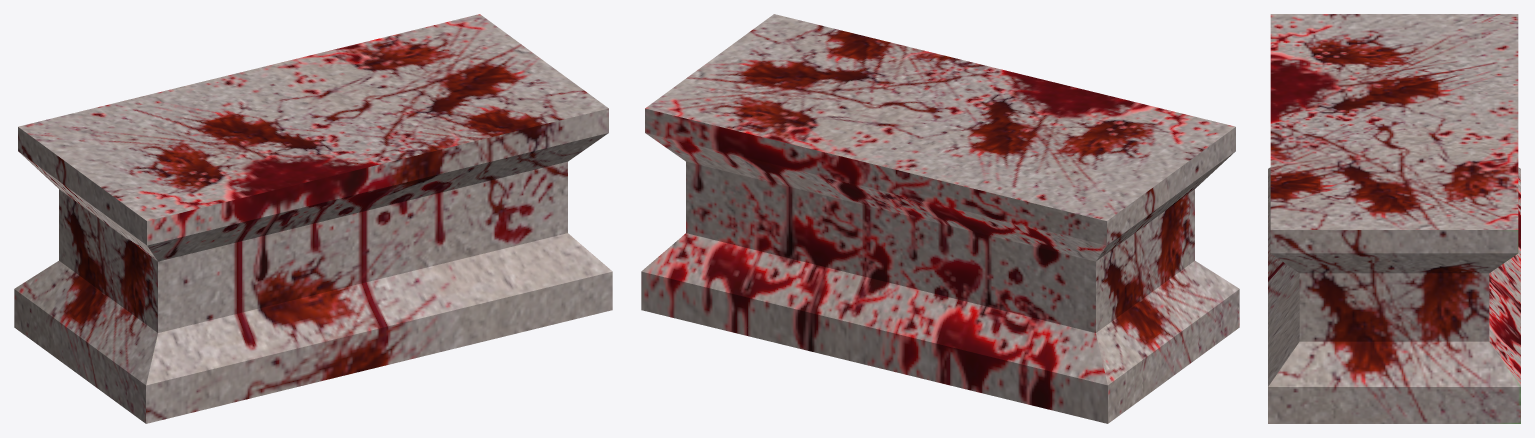
Rendered from altar.FBX.
The picture shows the model from 3 angles, left to right: view 1: azimuth 30°, elevation 25°; view 2: azimuth 150°, elevation 25°; view 3: azimuth 270°, elevation 25°; orthographic projection. The views are drawn at different scales.
Parts seen in each view (by area): view 1: Box001; view 2: Box001; view 3: Box001.
Boxes of the visible parts, left/top/right/bottom form: Box001: left=14, top=14, right=612, bottom=423; Box001: left=641, top=14, right=1239, bottom=423; Box001: left=1268, top=14, right=1520, bottom=423.
Size of the model in its own units: 101 by 41.74 by 49.6.
1 material, 1 textured.
